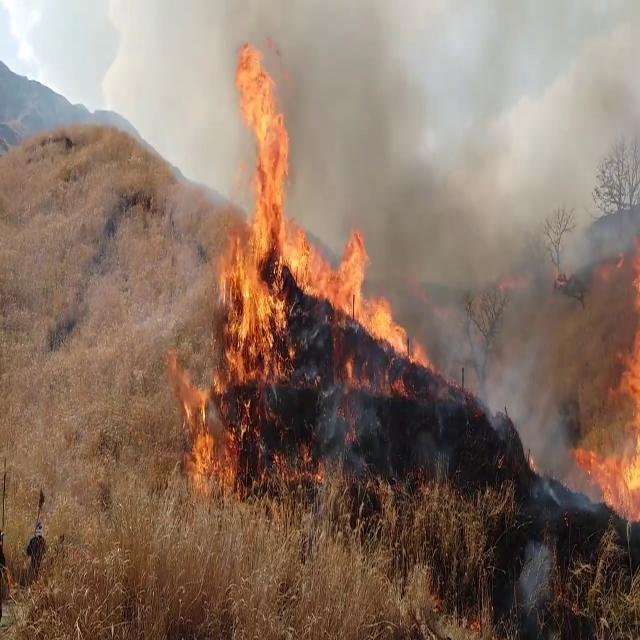Fire: (215, 34, 302, 382), (290, 218, 420, 386), (581, 221, 640, 525), (174, 331, 244, 494)
Smoke: (340, 17, 593, 500)
